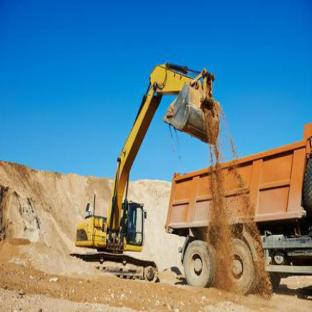ExcavationMachinery: (81, 40, 221, 276)
Vehicle: (168, 119, 312, 307)
